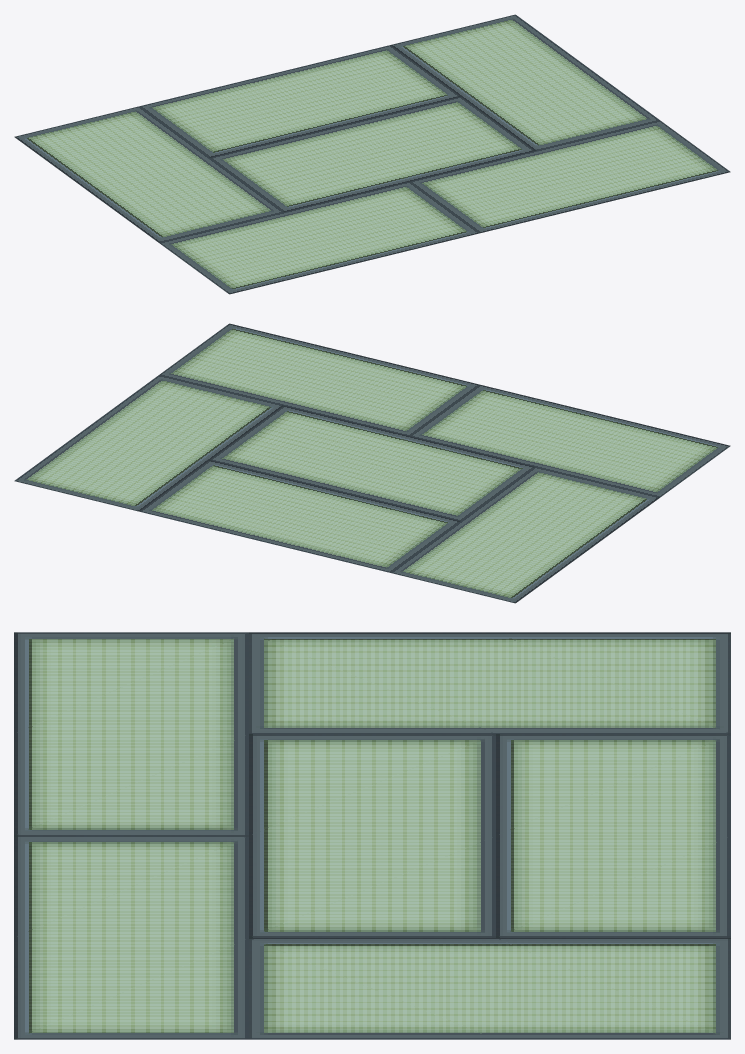
File: tatami_6jyo_01.fbx
3 views of the same model, one above another, from view 1: azimuth 30°, elevation 25°; view 2: azimuth 150°, elevation 25°; view 3: azimuth 270°, elevation 25° (orthographic). The views are drawn at different scales.
Visible parts, largest first — view 1: tatami_6jyo_01; view 2: tatami_6jyo_01; view 3: tatami_6jyo_01.
Part boxes in pixels (x1,y1,x2,y2): tatami_6jyo_01: (14, 14, 730, 294); tatami_6jyo_01: (14, 323, 730, 603); tatami_6jyo_01: (14, 632, 730, 1039).
Size of the model in its own units: 780 by 0 by 580.
